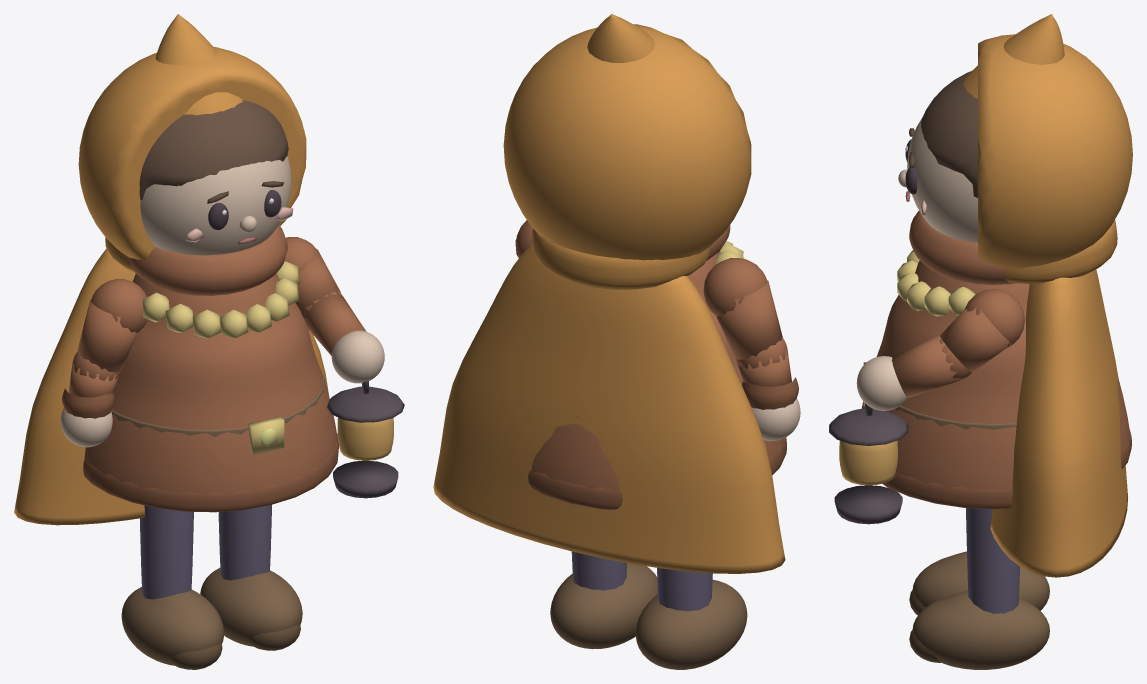
The model's file is hero_monk.glb.
3 renders of one model, left to right at view 1: azimuth 30°, elevation 25°; view 2: azimuth 150°, elevation 25°; view 3: azimuth 270°, elevation 25°, orthographic. The views are drawn at different scales.
Visible parts, largest first — view 1: hero_monk; view 2: hero_monk; view 3: hero_monk.
Boxes of the visible parts, x1,y1,x2,y2 form: hero_monk: [14, 14, 404, 669]; hero_monk: [433, 14, 800, 669]; hero_monk: [829, 14, 1132, 669].
Size of the model in its own units: 1.11 by 2.03 by 0.8942.
